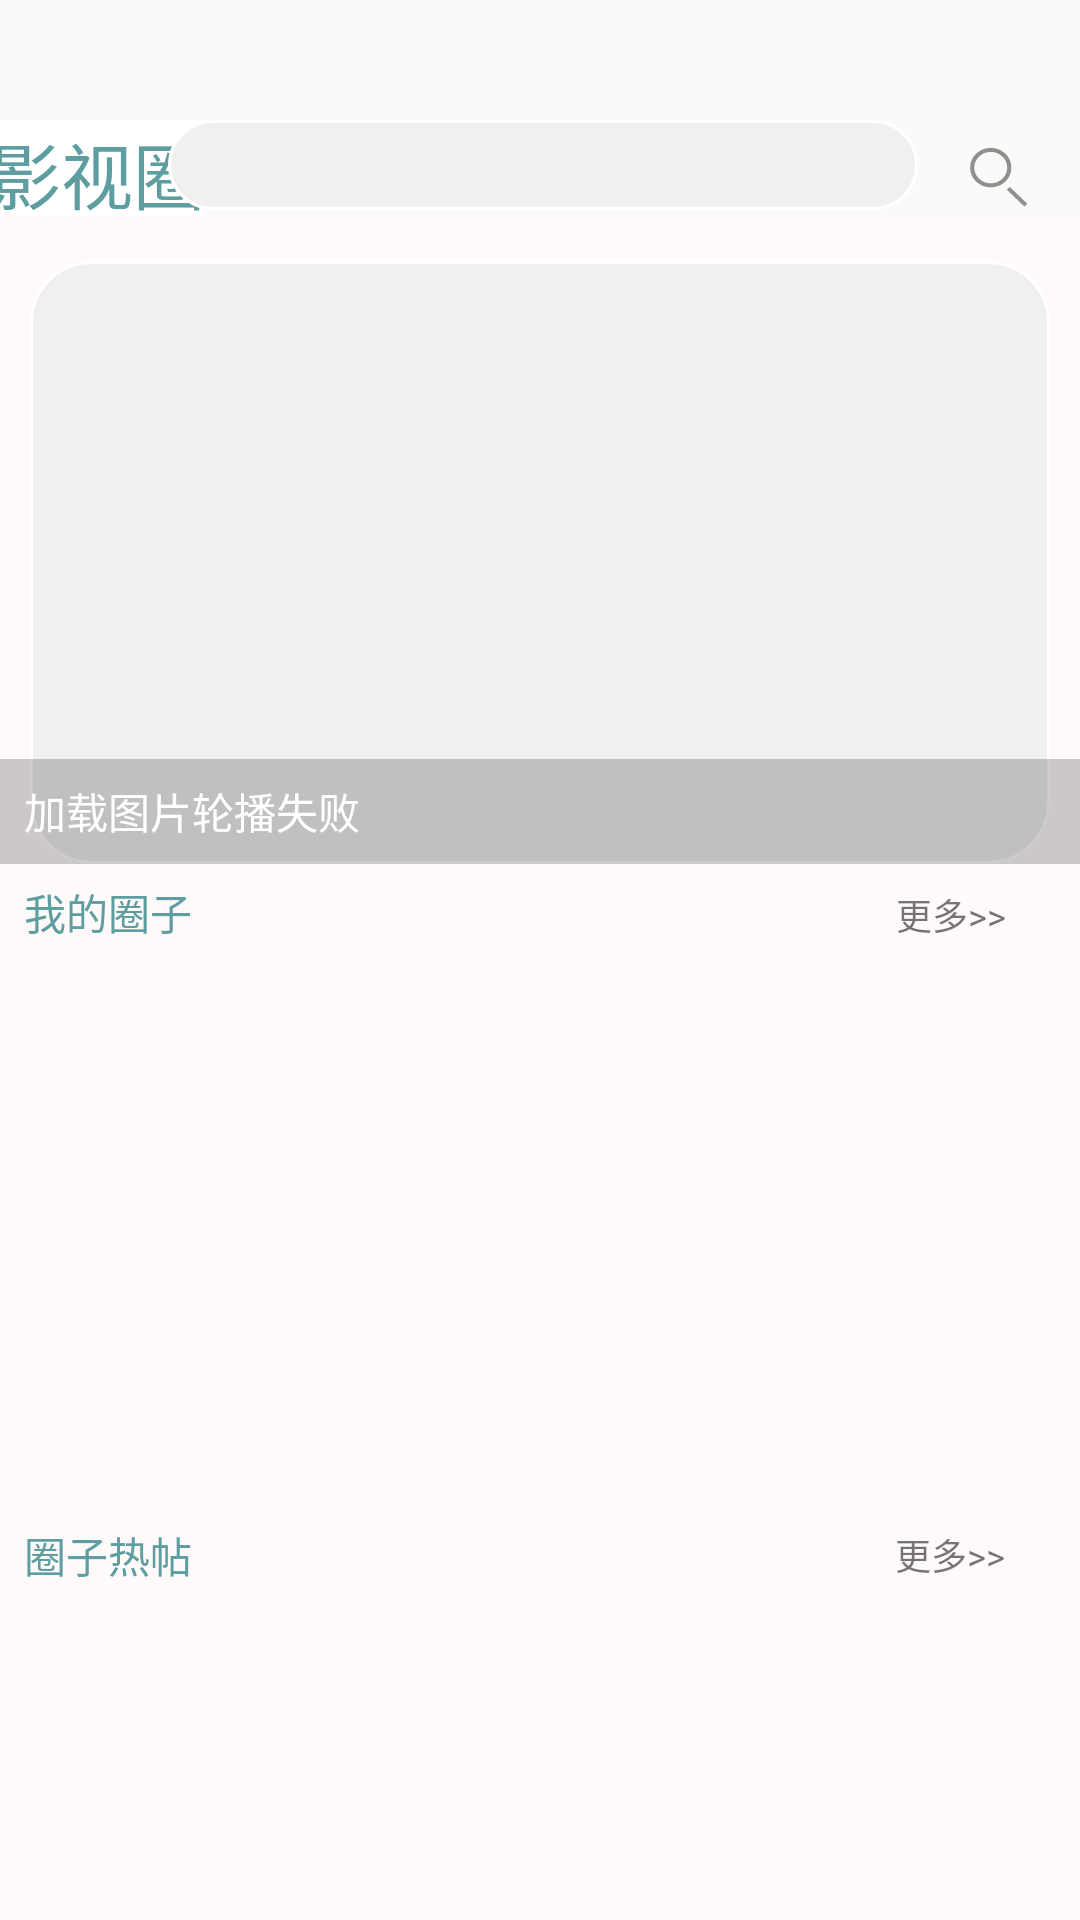

Named icons in this screenshot (1080px x 1920px) and their bounding boxes, (x1, y1, x2, y2):
search: (970, 148, 1027, 207)
